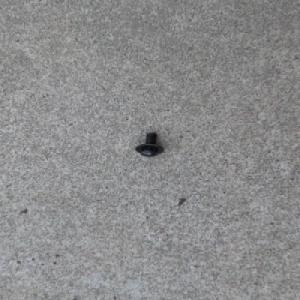BoltWasher: (135, 131, 165, 157)
